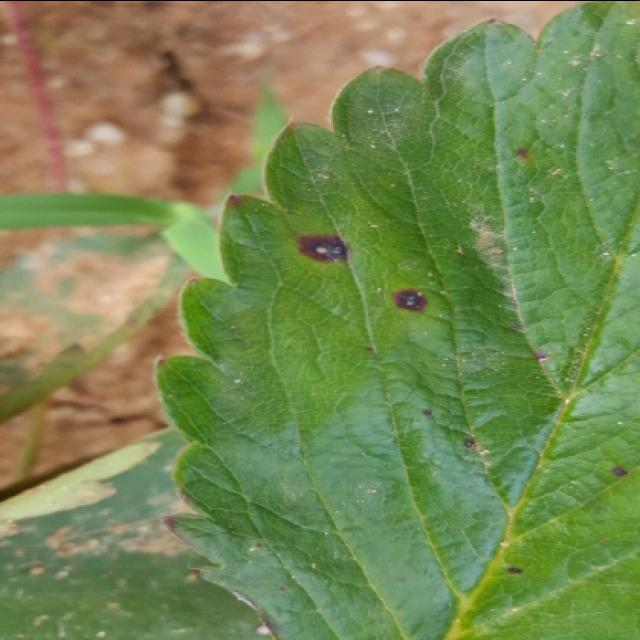Leaf Spot: (155, 2, 638, 640)
